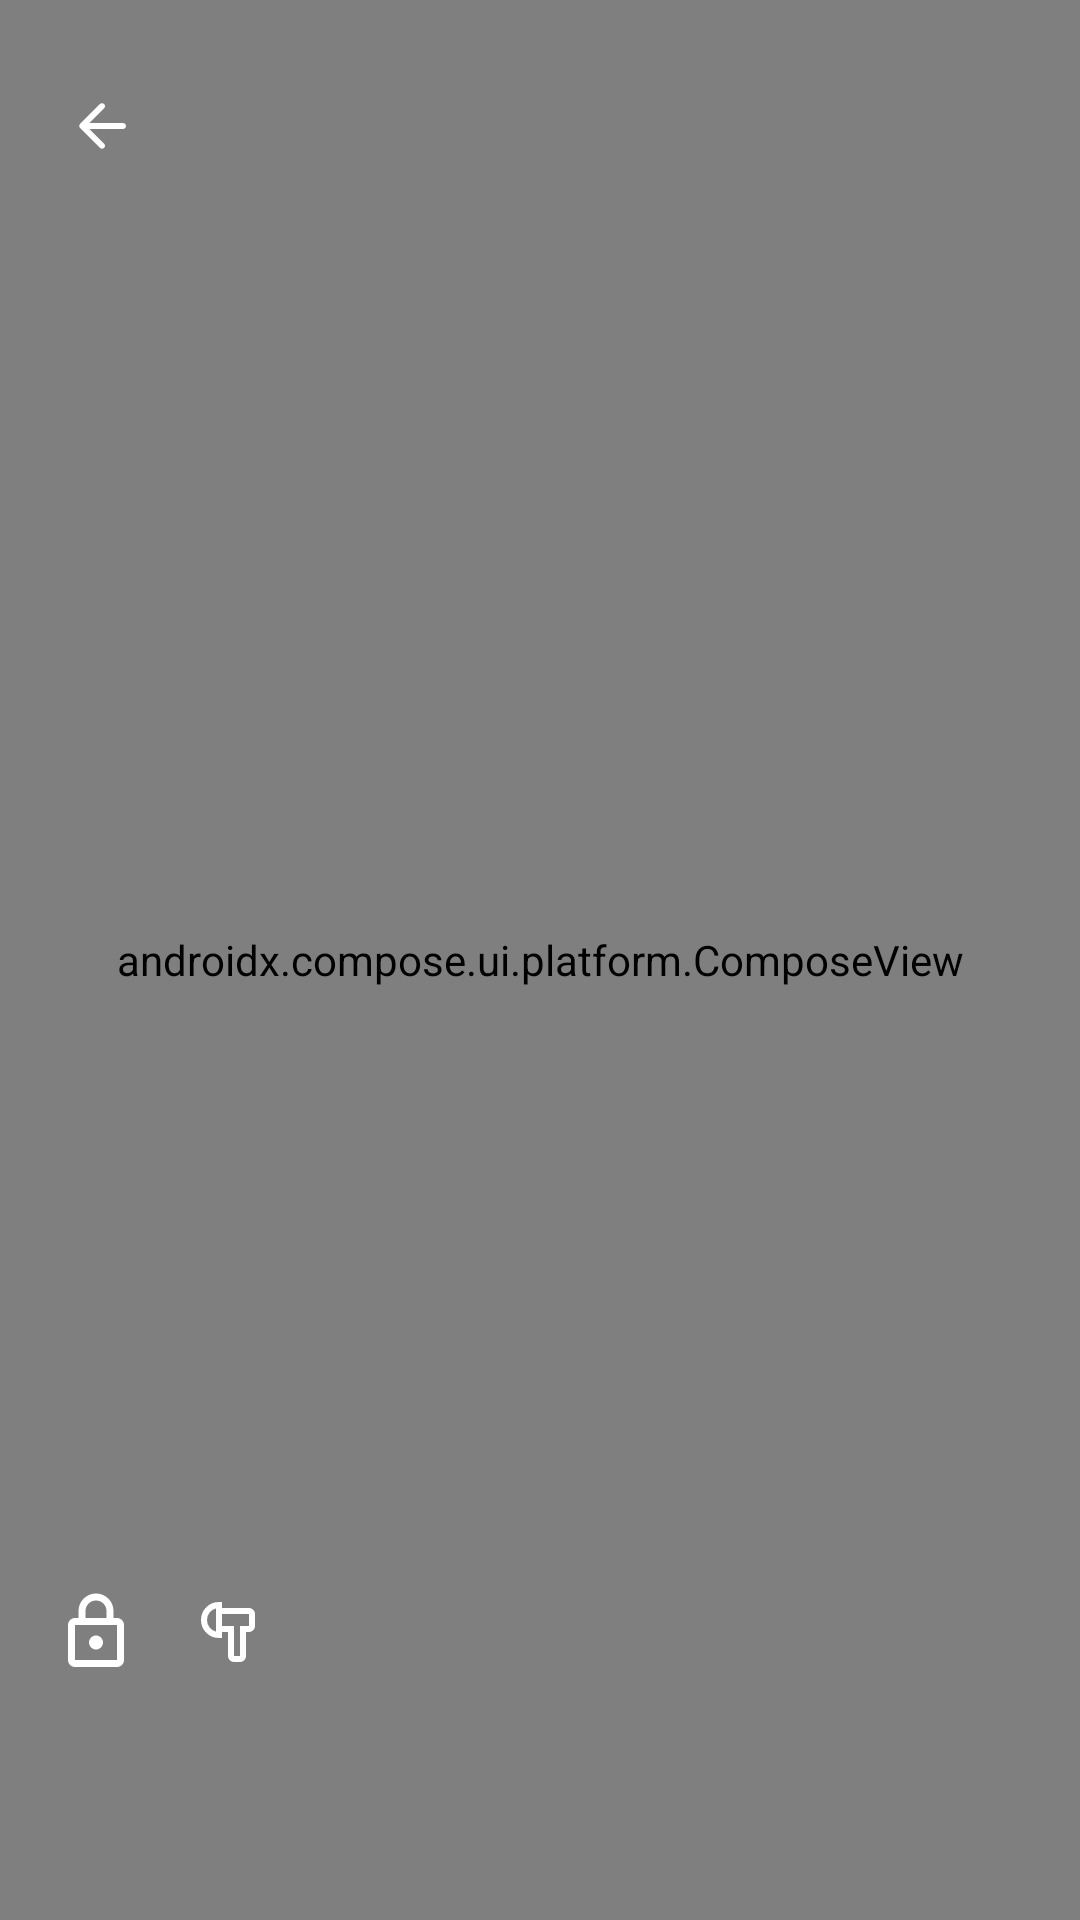

Where to tap for icons on this 1080×1920 app screen, as point (x, y):
arrow left: point (102, 126)
earbud: point (228, 1632)
lock premium: point (96, 1630)
